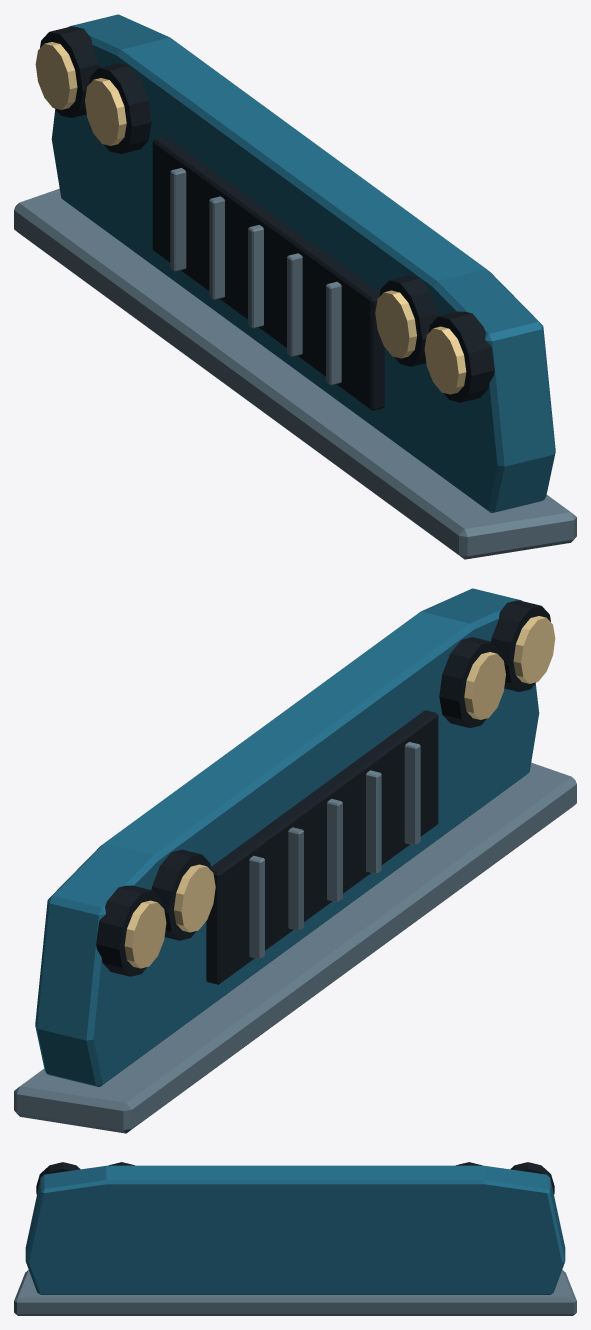
The model's file is EC_TouringFront.fbx.
3 views of the same model, one above another, from view 1: azimuth 30°, elevation 25°; view 2: azimuth 150°, elevation 25°; view 3: azimuth 270°, elevation 25° (orthographic). The views are drawn at different scales.
Visible parts, largest first — view 1: EC_TouringFront; view 2: EC_TouringFront; view 3: EC_TouringFront.
Boxes of the visible parts, box(x1,y1,x2,y2) form: EC_TouringFront: box(14, 14, 576, 559); EC_TouringFront: box(14, 588, 576, 1133); EC_TouringFront: box(14, 1162, 576, 1315).
Size of the model in its own units: 0.24 by 0.4725 by 1.82.
